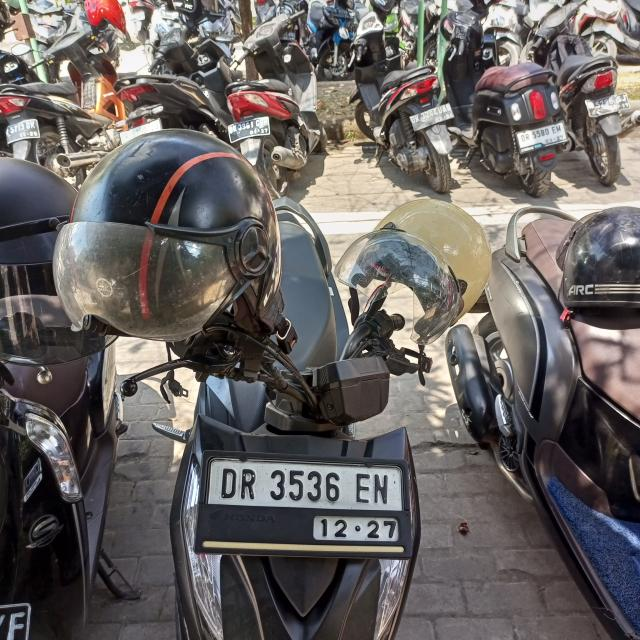plate: (208, 456, 404, 546), (516, 121, 569, 154), (227, 117, 271, 144)
